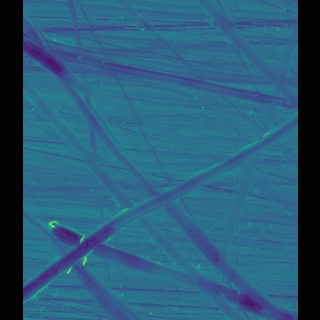Loch: (42, 8, 177, 209), (62, 215, 276, 319), (212, 0, 278, 169)
